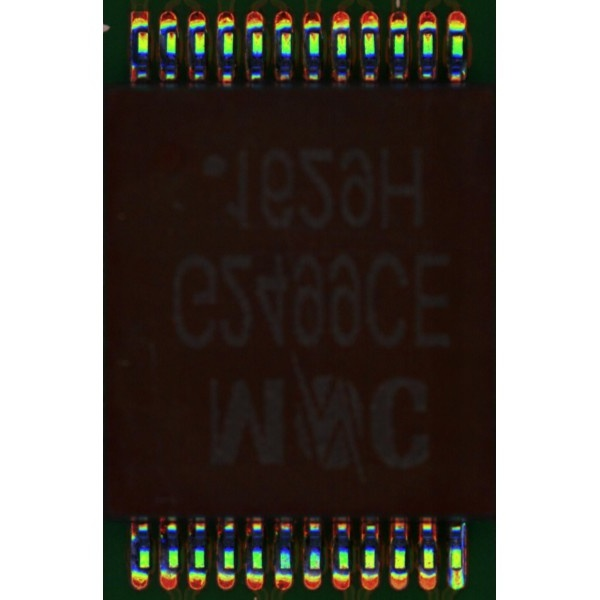Bad_podu: (453, 562, 461, 581)
Bad_qiaojiao: (461, 523, 466, 569)
